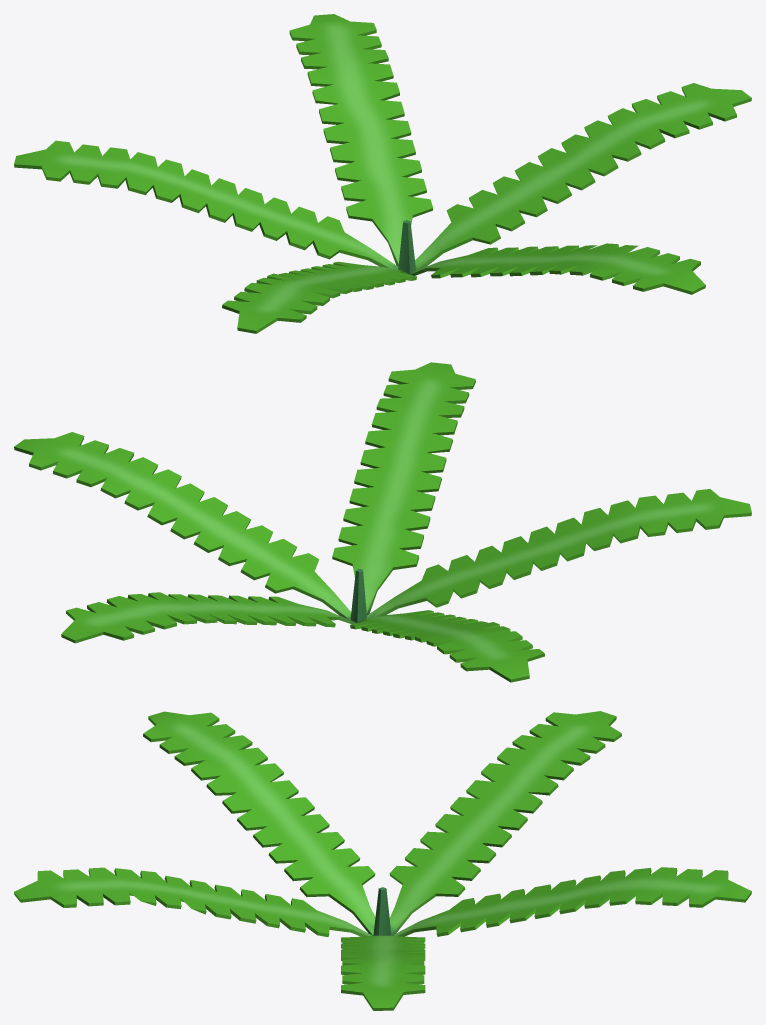
The model's file is helecho mil pies.fbx.
3 views of the same model, one above another, from view 1: azimuth 30°, elevation 25°; view 2: azimuth 150°, elevation 25°; view 3: azimuth 270°, elevation 25° (orthographic). The views are drawn at different scales.
Visible parts, largest first — view 1: Mesh; view 2: Mesh; view 3: Mesh.
Boxes of the visible parts, box(x1,y1,x2,y2) form: Mesh: box(14, 14, 751, 333); Mesh: box(14, 362, 751, 682); Mesh: box(14, 711, 751, 1010).
Size of the model in its own units: 357 by 54.97 by 376.
